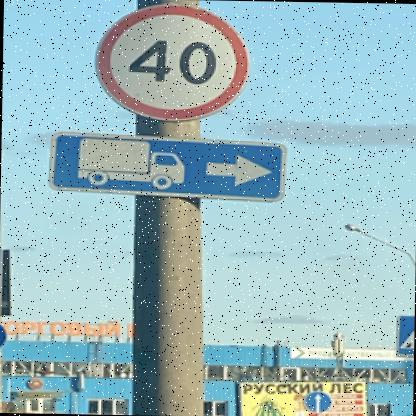crosswalk: (394, 313, 413, 358)
speedlimit: (90, 2, 248, 122)
